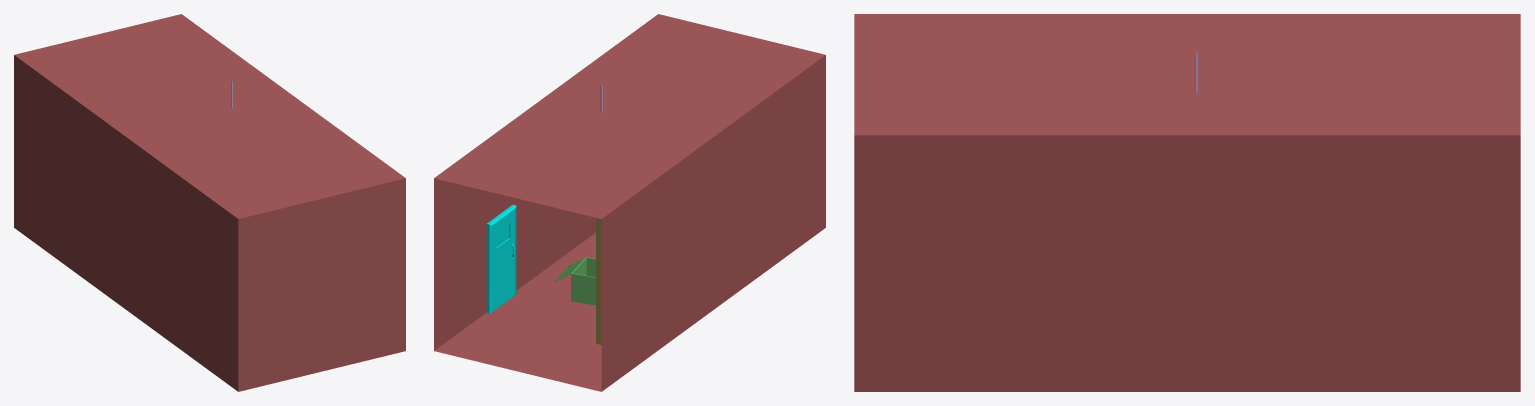
File: closet_garrett_02.fbx
3 views of the same model, side by side, from view 1: azimuth 30°, elevation 25°; view 2: azimuth 150°, elevation 25°; view 3: azimuth 270°, elevation 25° (orthographic). The views are drawn at different scales.
Parts seen in each view (by area): view 1: closetBG; view 2: closetBG, door_closet_to_lobby, openBox1, closetShelf; view 3: closetBG.
Part boxes in pixels (x1,y1,x2,y2): closetBG: (14,14,405,391); closetBG: (434,14,825,391); door_closet_to_lobby: (486,204,516,313); openBox1: (553,257,595,305); closetShelf: (596,218,601,344); closetBG: (854,14,1520,391).
Size of the model in its own units: 1330 by 1519 by 3085.
